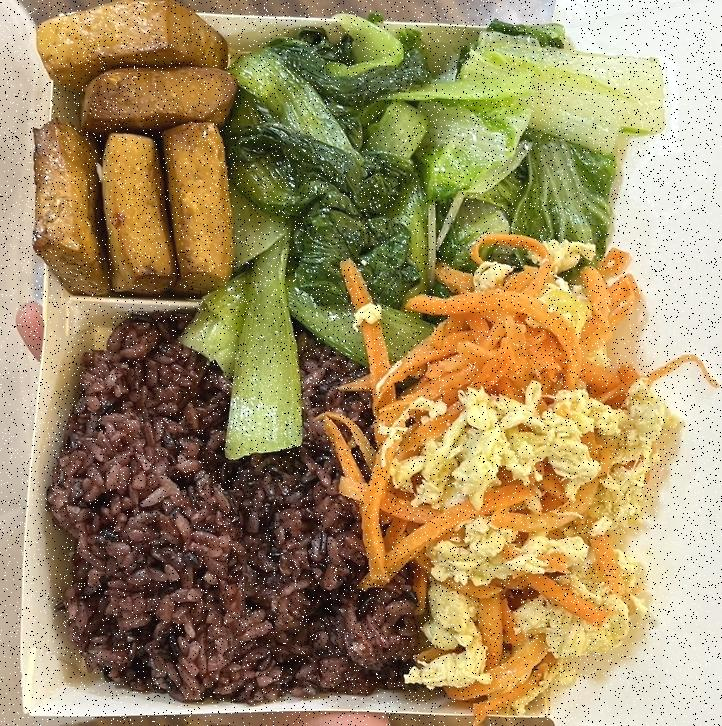box: (0, 9, 653, 726)
purple rice: (46, 297, 421, 711)
side dish: (364, 250, 656, 708), (210, 22, 427, 460), (32, 5, 235, 298), (417, 34, 638, 284)
